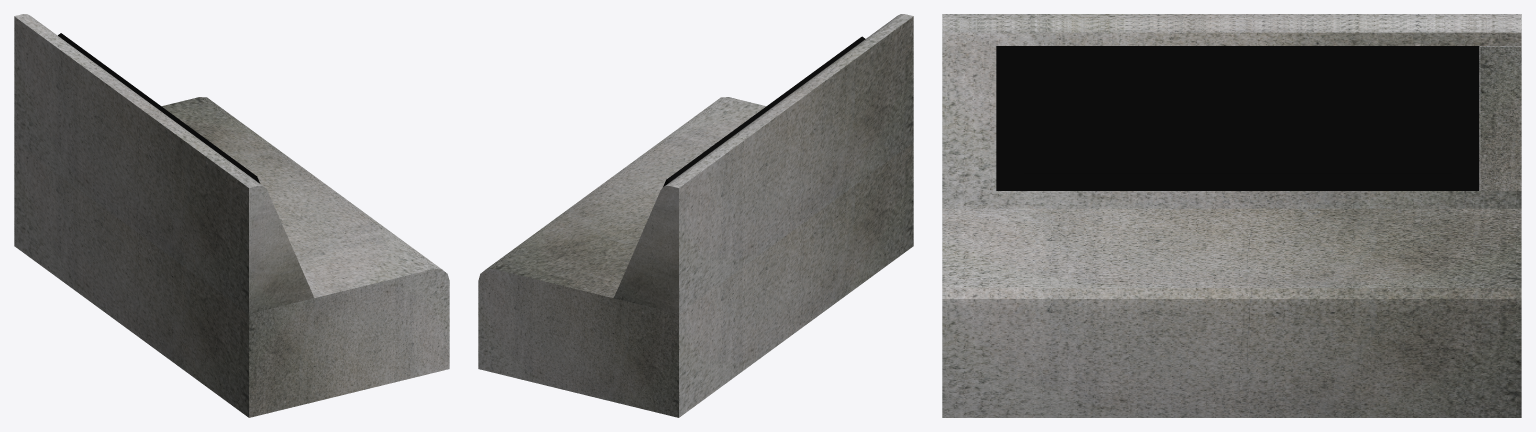
Rendered from Panel_de_Control.fbx.
The picture shows the model from 3 angles, left to right: view 1: azimuth 30°, elevation 25°; view 2: azimuth 150°, elevation 25°; view 3: azimuth 270°, elevation 25°; orthographic projection. The views are drawn at different scales.
Parts seen in each view (by area): view 1: Cube, Cube.001; view 2: Cube, Cube.001; view 3: Cube, Cube.001.
Part boxes in pixels (x1,y1,x2,y2): Cube: (14,14,449,417); Cube.001: (58,33,260,183); Cube: (478,14,913,417); Cube.001: (663,36,865,186); Cube: (942,14,1521,417); Cube.001: (996,46,1479,190).
Bounding box in the file's own units: 676 × 740 × 1371.
